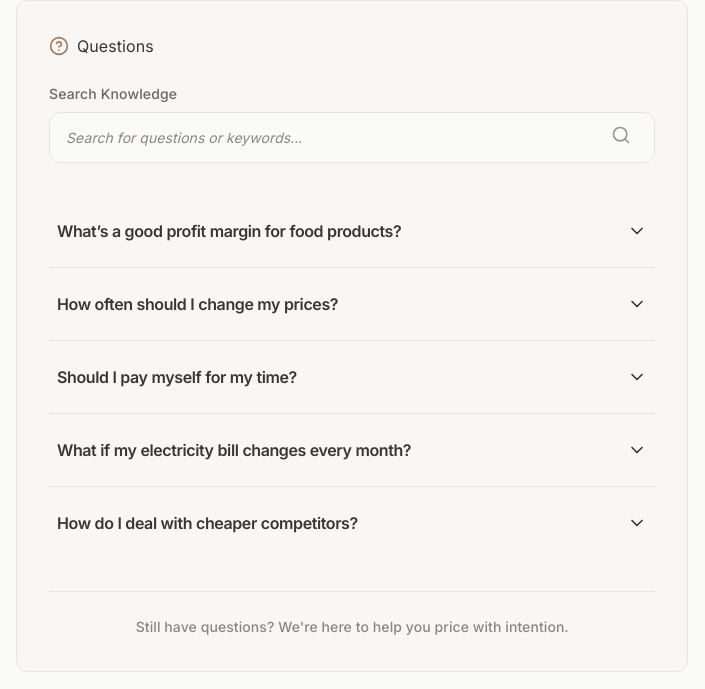
FAQ › filters questions based on search input
Type "profit margin" into the field with placeholder "Search for questions or keywords..." at (352,138), box left=49, top=112, right=655, bottom=163
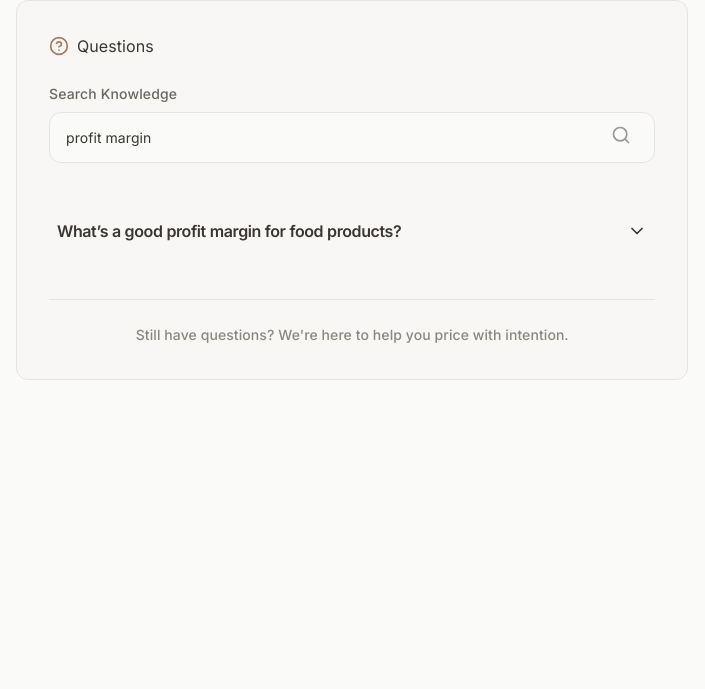
Expected: the text "What’s a good profit margin for food products?" is shown, left=57, top=219, right=401, bottom=243
Expected: the button "How often should I change my prices?" is gone
